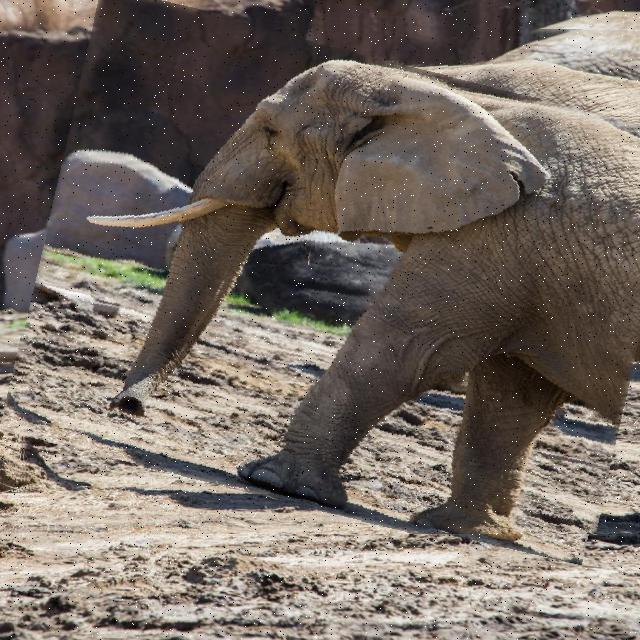elephant: (20, 17, 640, 534)
